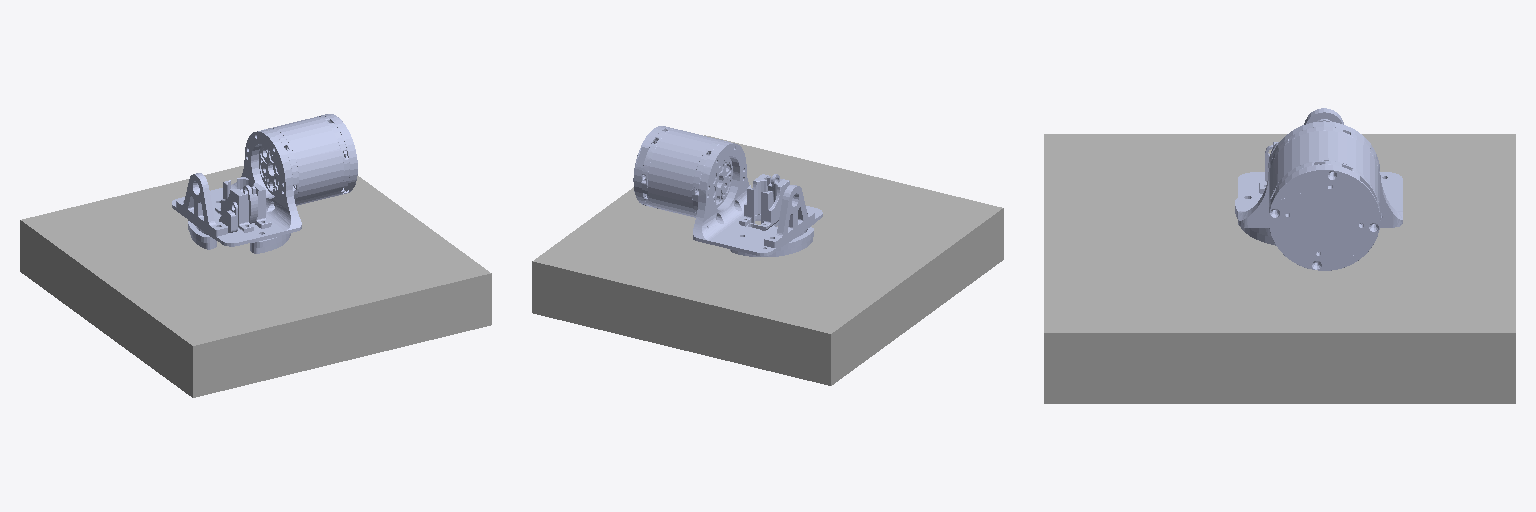
URDF robot description (总装.SLDASM):
<?xml version="1.0" encoding="utf-8"?>
<!-- This URDF was automatically created by SolidWorks to URDF Exporter! Originally created by Stephen Brawner (brawner@gmail.com) 
     Commit Version: 1.6.0-4-g7f85cfe  Build Version: 1.6.7995.38578
     For more information, please see http://wiki.ros.org/sw_urdf_exporter -->
<robot
  name="总装.SLDASM">
  <link
    name="base_link">
    <inertial>
      <origin
        xyz="-0.0137403406366665 0.00846999325166926 -0.00215339711156119"
        rpy="0 0 0" />
      <mass
        value="5.87104095523593" />
      <inertia
        ixx="0.0193921354699446"
        ixy="2.32027266230495E-06"
        ixz="-3.78668072603559E-06"
        iyy="0.0217485509662355"
        iyz="-2.76806826660052E-05"
        izz="0.035918219064228" />
    </inertial>
    <visual>
      <origin
        xyz="0 0 0"
        rpy="0 0 0" />
      <geometry>
        <box size="0.24 0.24 0.04" />
      </geometry>
      <material
        name="">
        <color
          rgba="0.752941176470588 0.752941176470588 0.752941176470588 1" />
      </material>
    </visual>
    <collision>
      <origin
        xyz="0 0 0"
        rpy="0 0 0" />
      <geometry>
        <box size="0.24 0.24 0.04" />
      </geometry>
    </collision>
  </link>
  <link
    name="yaw">
    <inertial>
      <origin
        xyz="0.028481179151121 0.0207660391985798 0.0550691398598107"
        rpy="0 0 0" />
      <mass
        value="0.215" />
      <inertia
        ixx="0.000106236048473474"
        ixy="9.06220183926505E-07"
        ixz="-9.60802740825287E-06"
        iyy="8.25219913730509E-05"
        iyz="-8.25531711293882E-07"
        izz="0.000106966989683334" />
    </inertial>
    <visual>
      <origin
        xyz="0 0 0"
        rpy="0 0 0" />
      <geometry>
        <mesh
          filename="package://总装.SLDASM/meshes/yaw.STL" />
      </geometry>
      <material
        name="">
        <color
          rgba="0.792156862745098 0.819607843137255 0.933333333333333 1" />
      </material>
    </visual>
    <collision>
      <origin
        xyz="0.018838 0.019889 0.058853"
        rpy="0 0 0" />
      <geometry>
        <box size="0.1018 0.0715 0.0670" />
      </geometry>
    </collision>
  </link>
  <joint
    name="joint1"
    type="continuous">
    <origin
      xyz="0 0 0"
      rpy="0 0 0" />
    <parent
      link="base_link" />
    <child
      link="yaw" />
    <axis
      xyz="0 0 -1" />
    <limit
      effort="3"
      velocity="12.57" />
  </joint>
  <link
    name="pitch1">
    <inertial>
      <origin
        xyz="-0.136281136523985 0.18235218189289 -0.0371480248295655"
        rpy="0 0 0" />
      <mass
        value="0.644" />
      <inertia
        ixx="0.536756801479771"
        ixy="0.000223476417526356"
        ixz="3.26286568773848E-08"
        iyy="0.53644819353514"
        iyz="4.59128692376412E-08"
        izz="0.53699266483332" />
    </inertial>
    <visual>
      <origin
        xyz="0 0 0"
        rpy="0 0 0" />
      <geometry>
        <mesh
          filename="package://总装.SLDASM/meshes/pitch1.STL" />
      </geometry>
      <material
        name="">
        <color
          rgba="0.898039215686275 0.913725490196078 0.925490196078431 1" />
      </material>
    </visual>
    <collision>
      <origin
        xyz="-0.065513 0.087124 0.014550"
        rpy="0 0 0.60" />
      <geometry>
        <box size="0.0709 0.1419 0.1410" />
      </geometry>
    </collision>
  </link>
  <joint
    name="joint2"
    type="revolute">
    <origin
      xyz="0.020429 0.022615 0.063853"
      rpy="1.5708 0 -1.5688" />
    <parent
      link="yaw" />
    <child
      link="pitch1" />
    <axis
      xyz="0 0 -1" />
    <limit
      lower="-0.95"
      upper="0"
      effort="7"
      velocity="3.77" />
  </joint>
  <link
    name="pitch2">
    <inertial>
      <origin
        xyz="0.109012511268356 7.42130474349345E-05 0.0232025680343156"
        rpy="0 0 0" />
      <mass
        value="0.441" />
      <inertia
        ixx="0.000128577438797984"
        ixy="2.38913403277098E-06"
        ixz="3.02757604617041E-05"
        iyy="0.000552834394503445"
        iyz="9.4499813176629E-08"
        izz="0.000467915895576166" />
    </inertial>
    <visual>
      <origin
        xyz="0 0 0"
        rpy="0 0 0" />
      <geometry>
        <mesh
          filename="package://总装.SLDASM/meshes/pitch2.STL" />
      </geometry>
      <material
        name="">
        <color
          rgba="1 1 1 1" />
      </material>
    </visual>
    <collision>
      <origin
        xyz="0.113587 0.006775 0.025595"
        rpy="0 0 0" />
      <geometry>
        <box size="0.2612 0.0700 0.0752" />
      </geometry>
    </collision>
  </link>
  <joint
    name="joint3"
    type="revolute">
    <origin
      xyz="-0.042841 0.12853 0.05105"
      rpy="3.1416 0 0" />
    <parent
      link="pitch1" />
    <child
      link="pitch2" />
    <axis
      xyz="0 0 -1" />
    <limit
      lower="-0.68"
      upper="0.785"
      effort="3"
      velocity="12.57" />
  </joint>
</robot>

--- What the picture shows (computed from the rendered views, not written in the file) ---
3 views of the same robot in one strip: view 1: azimuth 30°, elevation 25°; view 2: azimuth 150°, elevation 25°; view 3: azimuth 270°, elevation 25° (orthographic).
Model 总装.SLDASM with 4 links and 3 joints (2 revolute, 1 continuous), rooted at base_link, posed every joint at zero.
Links seen in each view (by area): view 1: base_link, yaw; view 2: base_link, yaw; view 3: base_link, yaw.
Boxes of the visible links, x1,y1,x2,y2 form: base_link: (20, 166, 491, 397); yaw: (172, 114, 357, 253); base_link: (532, 135, 1003, 385); yaw: (633, 126, 822, 256); base_link: (1044, 134, 1515, 403); yaw: (1235, 108, 1402, 270).
Bounding box of the posed robot: 0.24 × 0.24 × 0.1124 m (x, y, z).
Meshes: 3 distinct files referenced, 1 mesh visuals loaded (1 binary STL); not drawn: 2 (reference not matched to a file when rendering).
